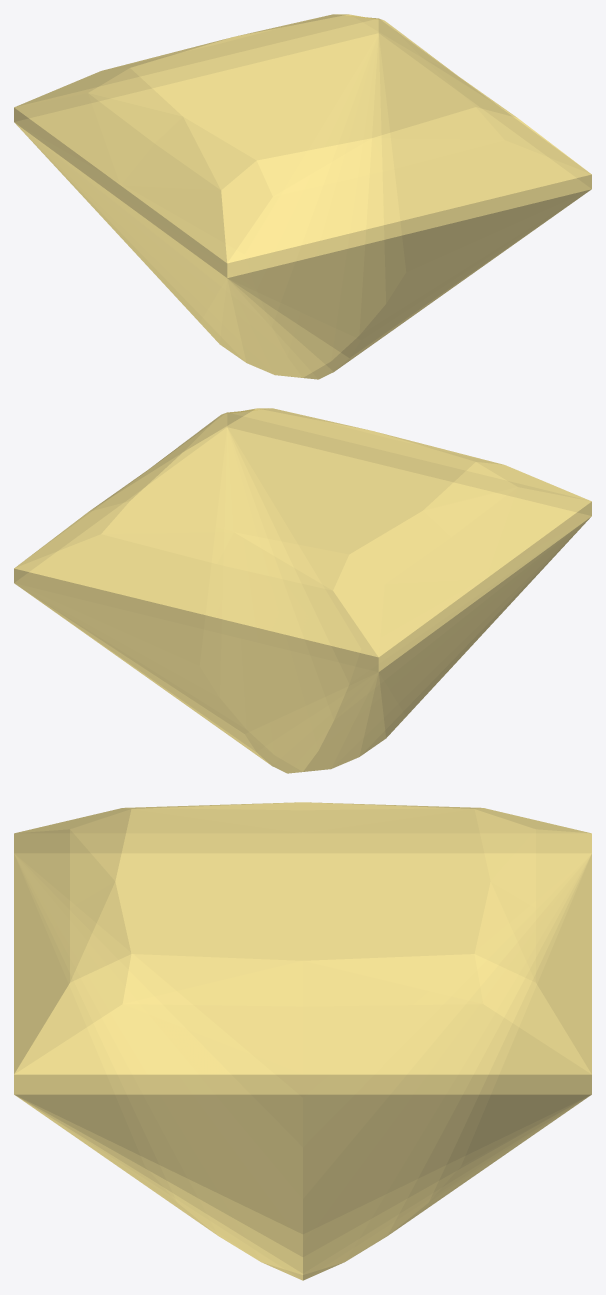
File: princess saphire jaune.glb
3 renders of one model, top to bottom at view 1: azimuth 30°, elevation 25°; view 2: azimuth 150°, elevation 25°; view 3: azimuth 270°, elevation 25°, orthographic. The views are drawn at different scales.
Visible parts, largest first — view 1: Princess; view 2: Princess; view 3: Princess.
Part boxes in pixels (bbox=[...]): Princess: bbox=[14, 14, 591, 379]; Princess: bbox=[14, 408, 591, 773]; Princess: bbox=[14, 802, 591, 1280].
Size of the model in its own units: 1.38 by 1.05 by 1.4.
